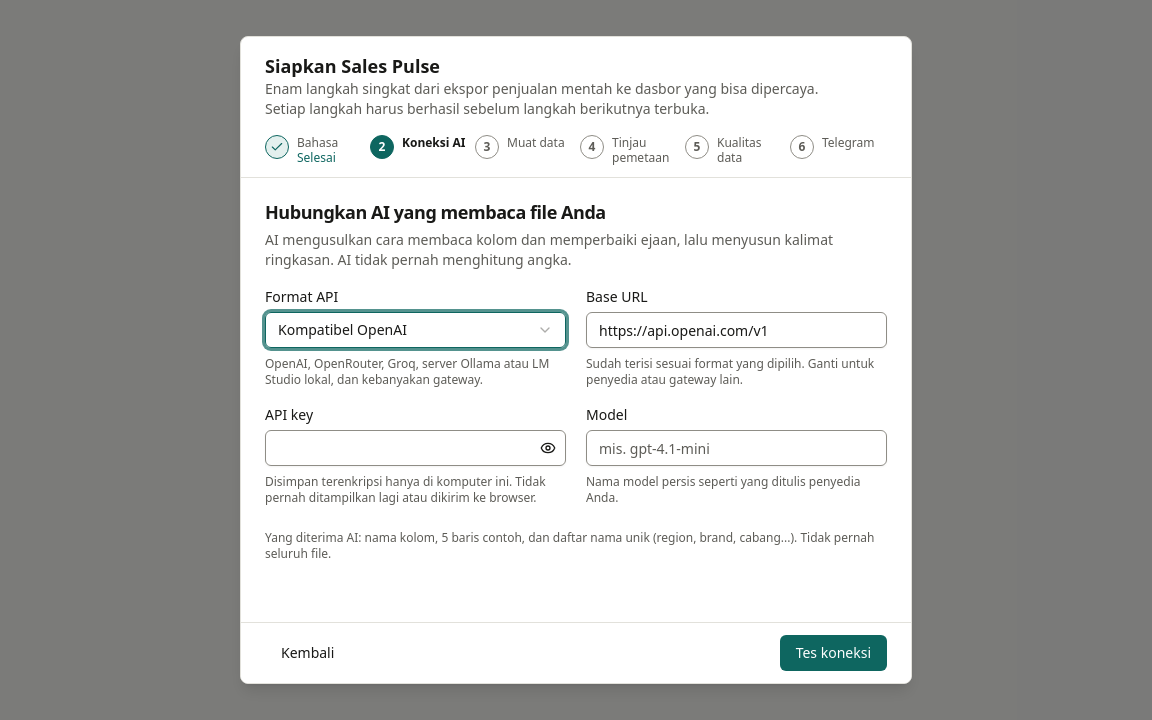
Test: a step must succeed before the next opens › stays on the LLM step when the connection test fails, with a readable reason
Type "sk-wrong" into the password field labelled "API key" at x=416, y=448, box [265, 430, 566, 466]
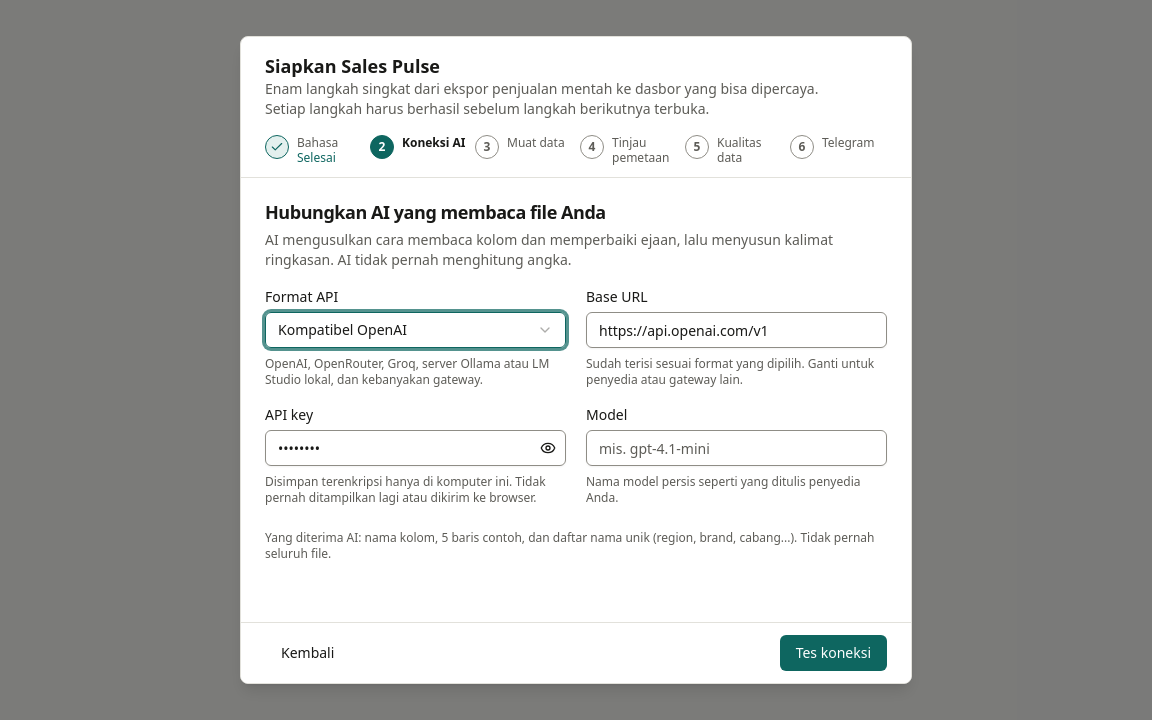
Type "gpt-4.1-mini" into the field labelled "Model" at x=736, y=448, box [586, 430, 887, 466]
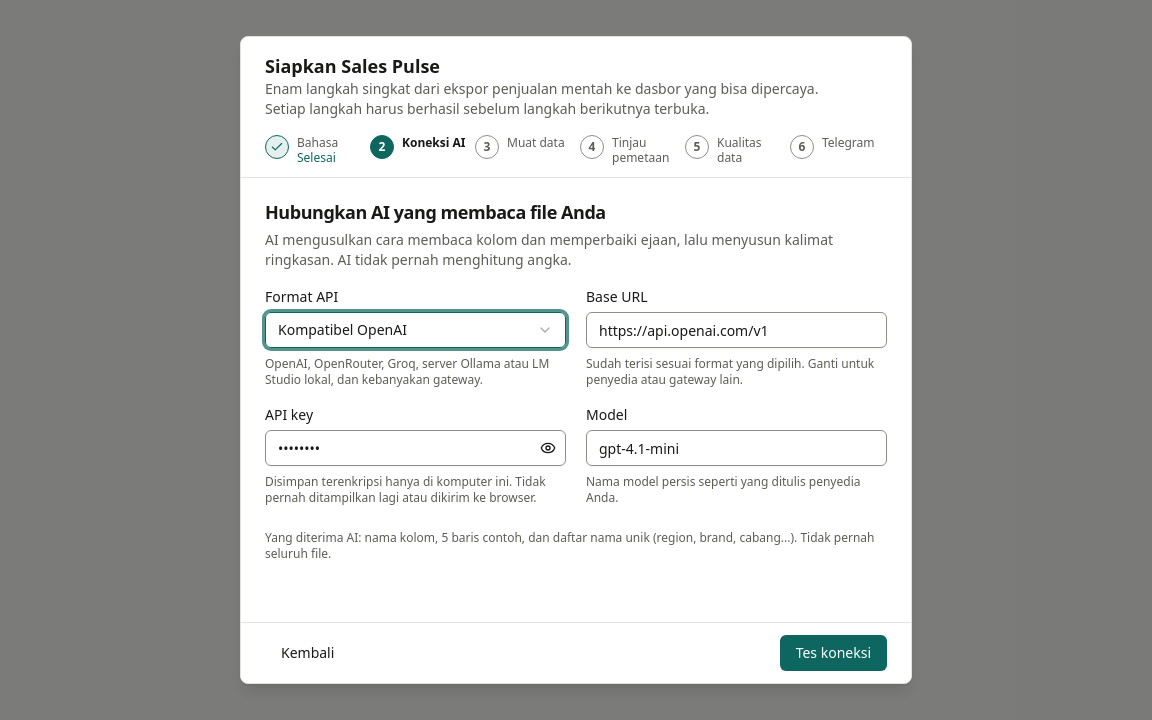
Click the button "Tes koneksi" at x=833, y=653, box [780, 635, 887, 671]
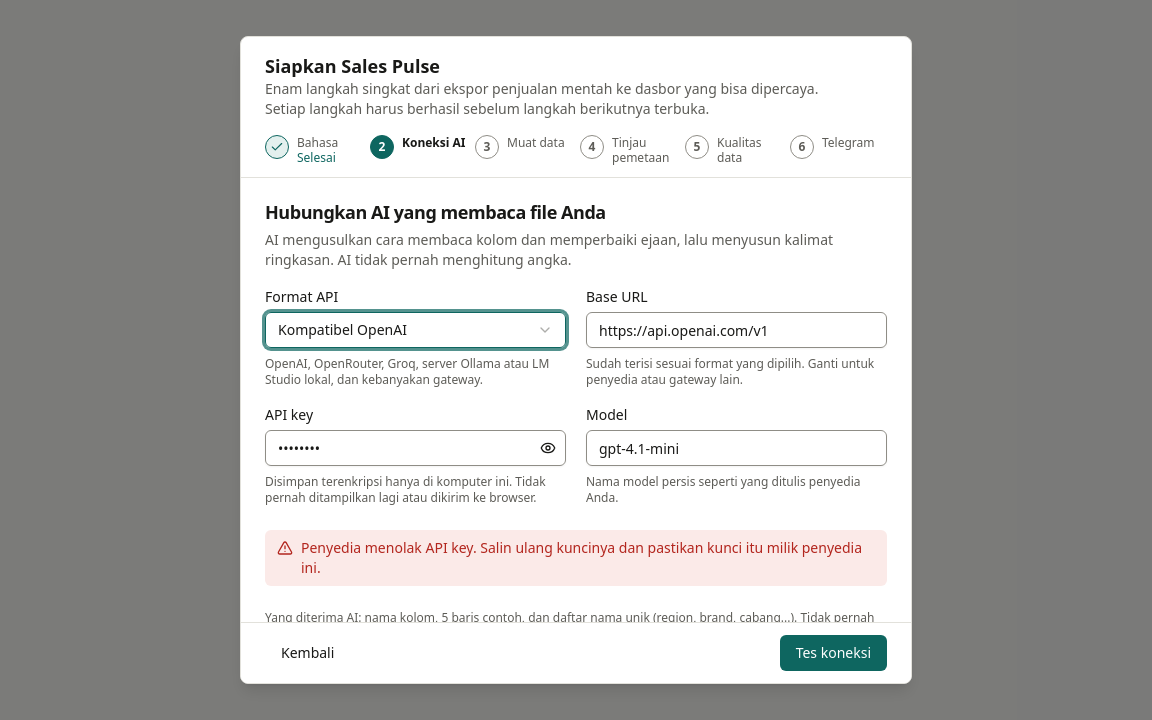
Expected: the list item "2 Koneksi AI" is shown, [370, 135, 467, 165]
Expected: the text "Penyedia menolak API key. Salin ulang kuncinya dan pastikan kunci itu milik penyedia ini." is shown, [301, 538, 862, 577]
